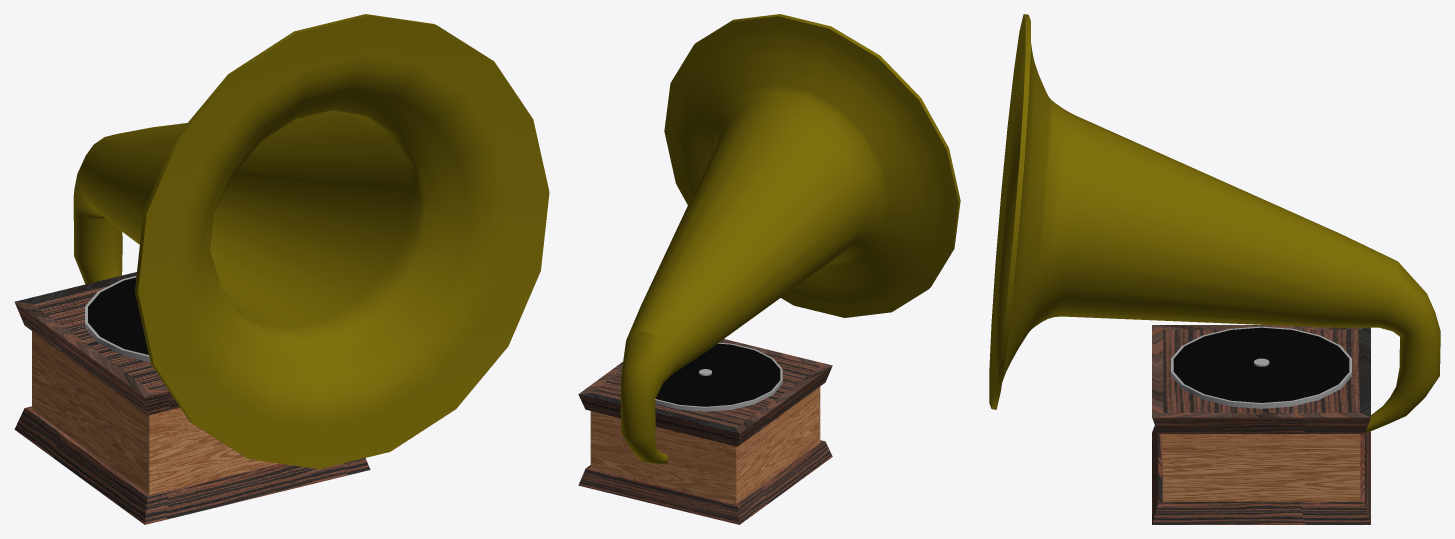
File: phonograph.fbx
3 renders of one model, left to right at view 1: azimuth 30°, elevation 25°; view 2: azimuth 150°, elevation 25°; view 3: azimuth 270°, elevation 25°, orthographic. The views are drawn at different scales.
Visible parts, largest first — view 1: pCube128; view 2: pCube128; view 3: pCube128.
Boxes of the visible parts, bbox=[...] form: pCube128: bbox=[14, 14, 549, 524]; pCube128: bbox=[578, 14, 960, 524]; pCube128: bbox=[989, 14, 1440, 524].
Size of the model in its own units: 1.39 by 1.7 by 1.57.
8 materials, 3 textured.
